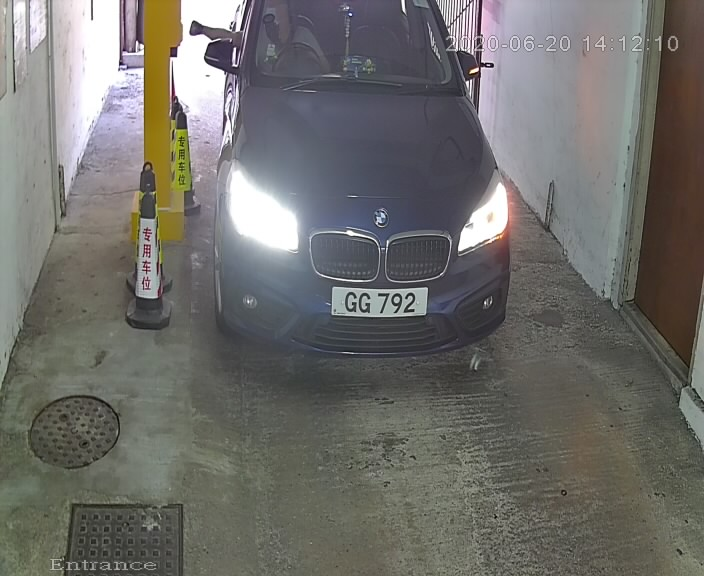privatecar: (207, 3, 520, 384)
